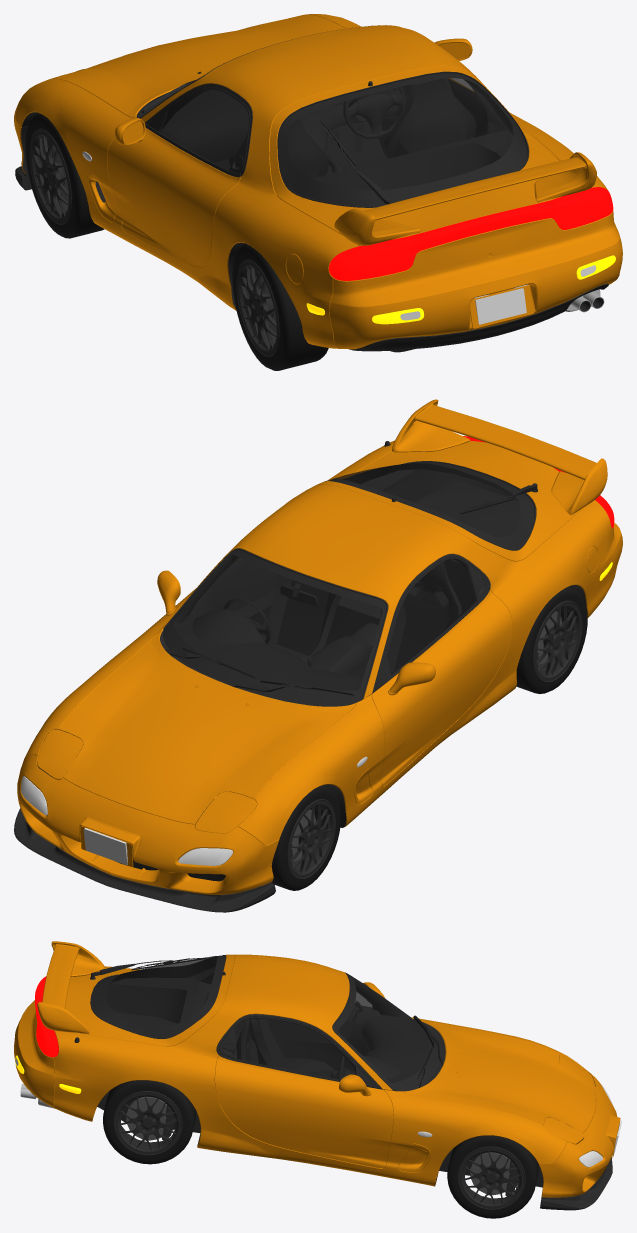
Rendered from Mazda RX-7.fbx.
3 views of the same model, one above another, from view 1: azimuth 30°, elevation 25°; view 2: azimuth 150°, elevation 25°; view 3: azimuth 270°, elevation 25° (orthographic). The views are drawn at different scales.
Visible parts, largest first — view 1: Mazda RX-7, Rear Wheels, Front Left Wheel; view 2: Mazda RX-7, Rear Wheels, Front Left Wheel, Lights; view 3: Mazda RX-7, Rear Wheels, Front Right Wheel, Lights.
Boxes of the visible parts, left/top/right/bottom form: Mazda RX-7: left=14, top=14, right=622, bottom=352; Rear Wheels: left=232, top=243, right=328, bottom=370; Front Left Wheel: left=25, top=113, right=104, bottom=238; Mazda RX-7: left=14, top=399, right=622, bottom=912; Rear Wheels: left=516, top=586, right=587, bottom=693; Front Left Wheel: left=271, top=785, right=340, bottom=890; Lights: left=37, top=729, right=256, bottom=833; Mazda RX-7: left=14, top=941, right=622, bottom=1210; Rear Wheels: left=103, top=1080, right=196, bottom=1164; Front Right Wheel: left=447, top=1135, right=538, bottom=1218; Lights: left=543, top=1053, right=595, bottom=1144.
Bounding box in the file's own units: 84.75 × 62.87 × 180.
